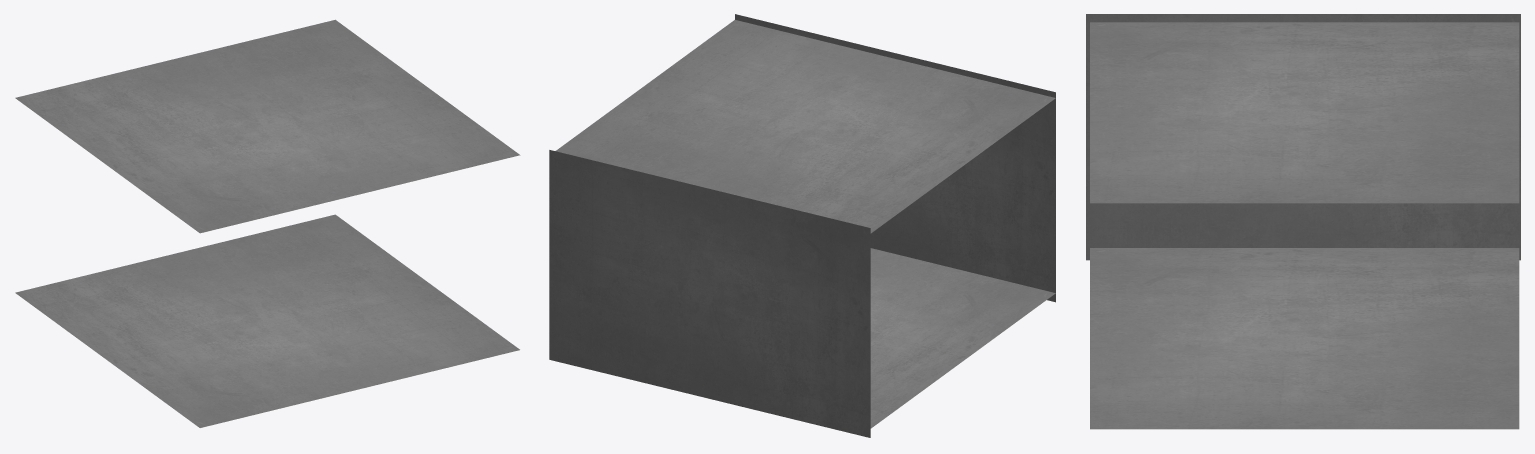
Rendered from Hangar.glb.
The picture shows the model from 3 angles, left to right: view 1: azimuth 30°, elevation 25°; view 2: azimuth 150°, elevation 25°; view 3: azimuth 270°, elevation 25°; orthographic projection. The views are drawn at different scales.
Parts seen in each view (by area): view 1: plane1, plane2; view 2: plane3, plane1, plane4, plane2; view 3: plane1, plane2, plane4.
Boxes of the visible parts, <box> form: plane1: <box>15,19,520,233</box>; plane2: <box>15,214,519,427</box>; plane3: <box>549,150,870,437</box>; plane1: <box>555,20,1055,233</box>; plane4: <box>735,14,1055,302</box>; plane2: <box>870,248,1055,428</box>; plane1: <box>1090,22,1519,203</box>; plane2: <box>1090,248,1519,429</box>; plane4: <box>1086,14,1520,260</box>.
Size of the model in its own units: 12 by 7.6 by 12.16.
Materials: 1 (1 with a texture image).
